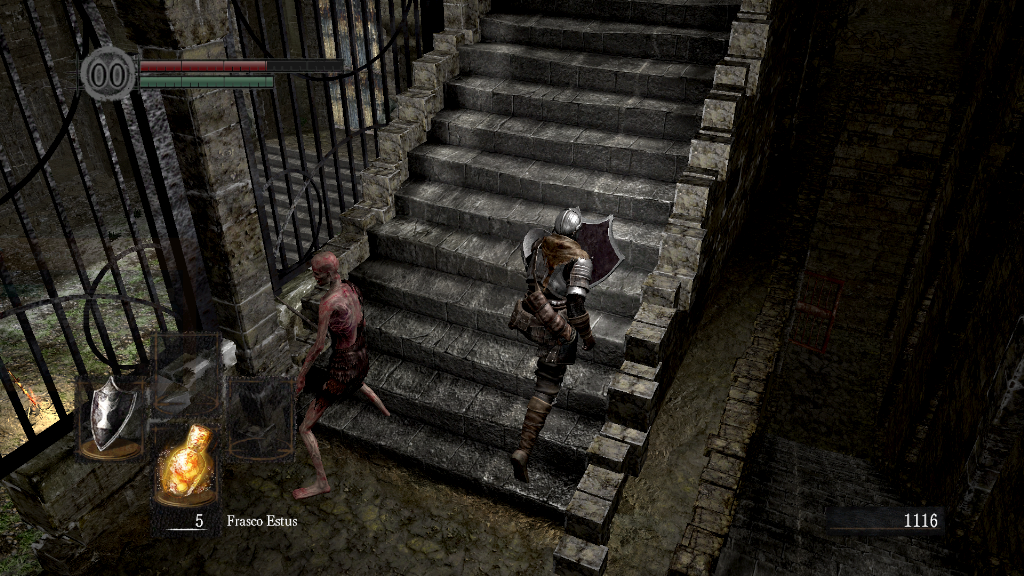health: (138, 58, 343, 71)
hollow: (274, 250, 395, 500)
humanity: (80, 45, 136, 102)
player: (510, 204, 626, 486)
souls: (825, 506, 945, 536)
stamina: (138, 74, 274, 88)
